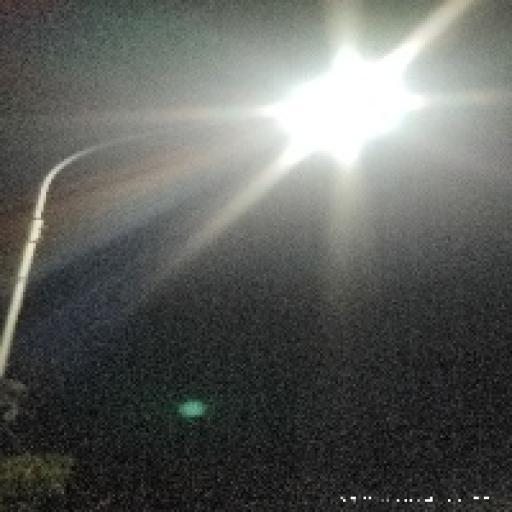Working: (251, 33, 441, 179)
